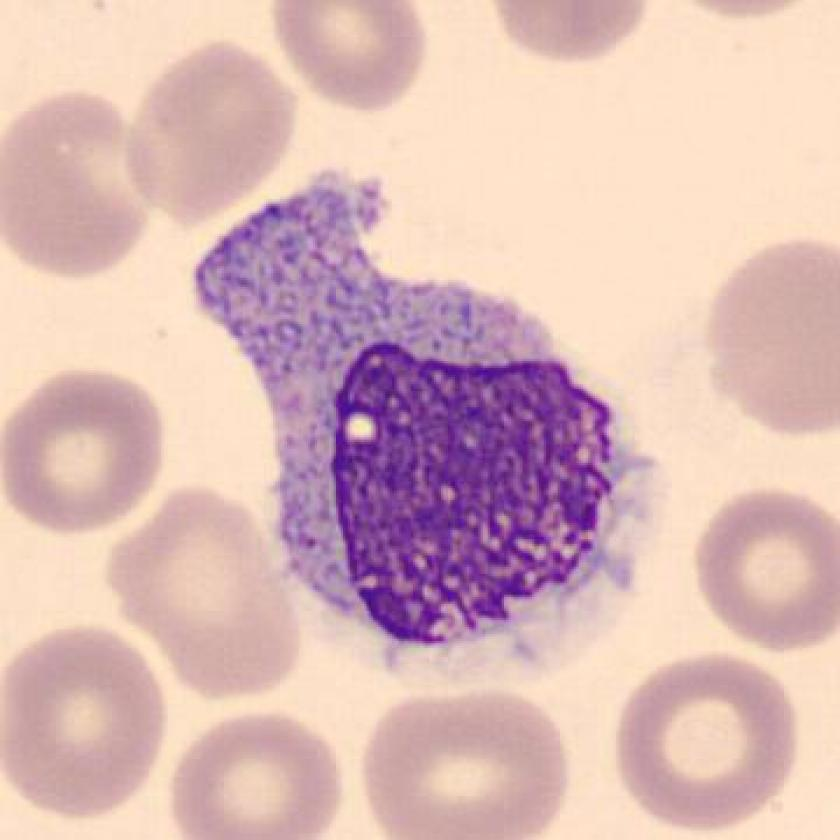monocyte: (171, 166, 692, 696)
